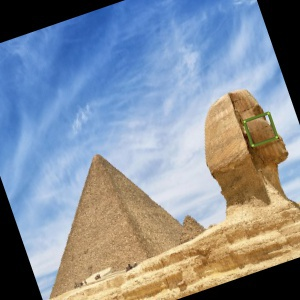square: (241, 111, 281, 148)
triangle: (48, 150, 189, 300)
